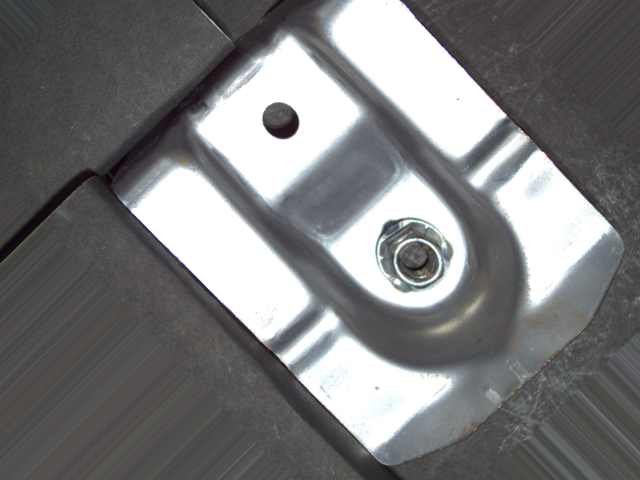good: (370, 212, 457, 298)
